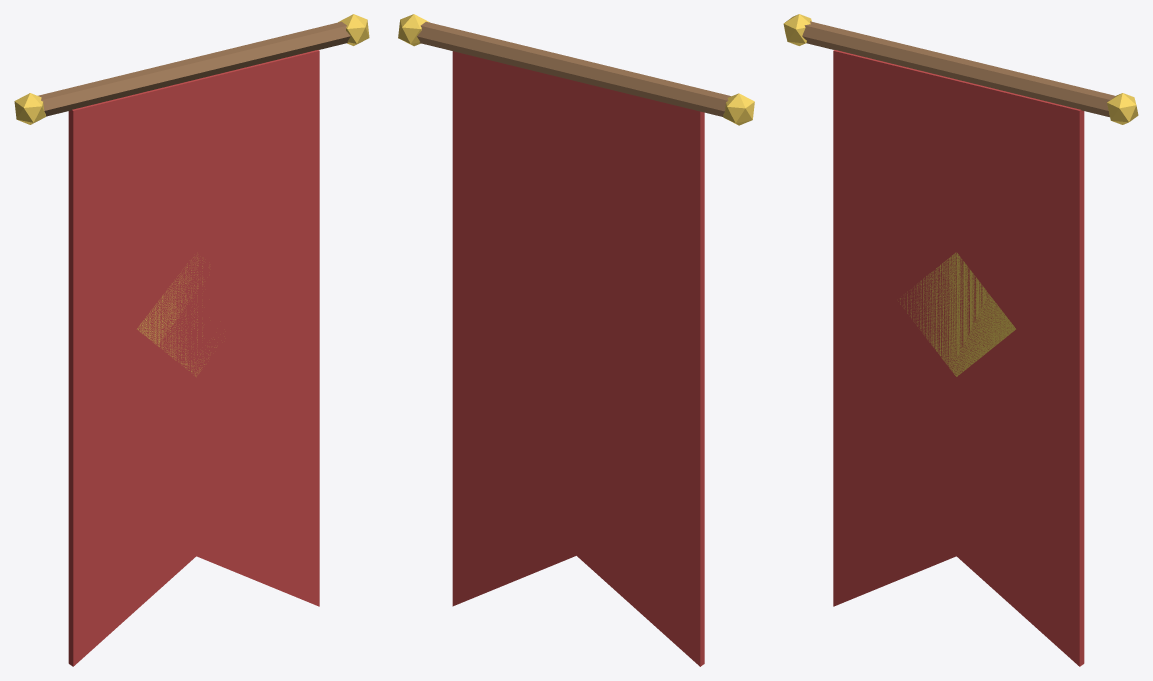
The model's file is SM_Banner_Red.glb.
The picture shows the model from 3 angles, left to right: view 1: azimuth 30°, elevation 25°; view 2: azimuth 150°, elevation 25°; view 3: azimuth 330°, elevation 25°; orthographic projection.
Visible parts, largest first — view 1: SM_Banner_Red; view 2: SM_Banner_Red; view 3: SM_Banner_Red.
Boxes of the visible parts, box(x1,y1,x2,y2) form: SM_Banner_Red: box(14, 14, 369, 666); SM_Banner_Red: box(398, 14, 754, 666); SM_Banner_Red: box(783, 14, 1138, 666).
Bounding box in the file's own units: 0.9116 × 1.44 × 0.0681.
